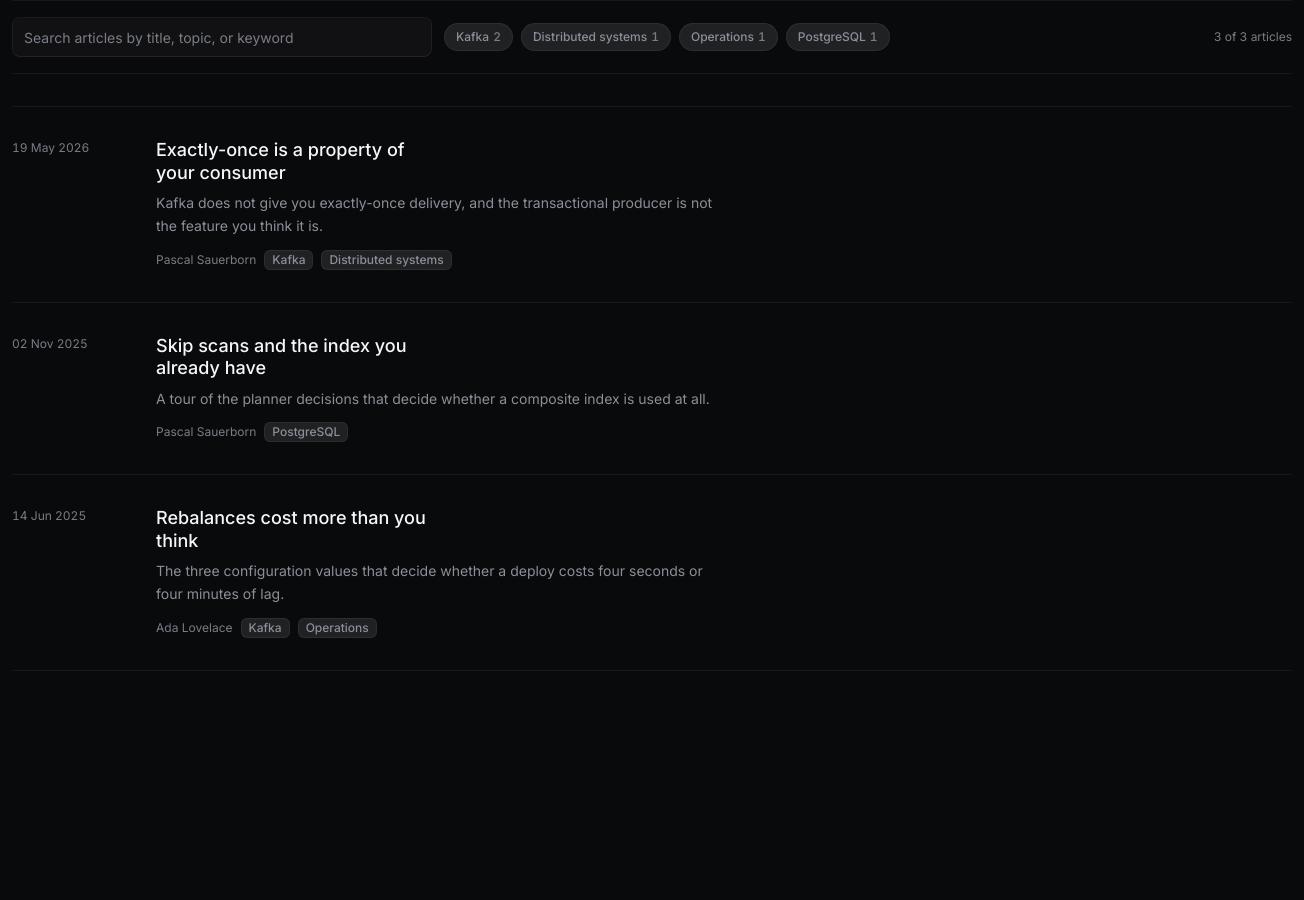
Scenario: BlogIndex › reports the visible count in a status region
Check: the message reads "3 of 3 articles", box 1214,28 -> 1292,46
Click the button "Kafka 2": (478,37) 444,23 -> 513,51
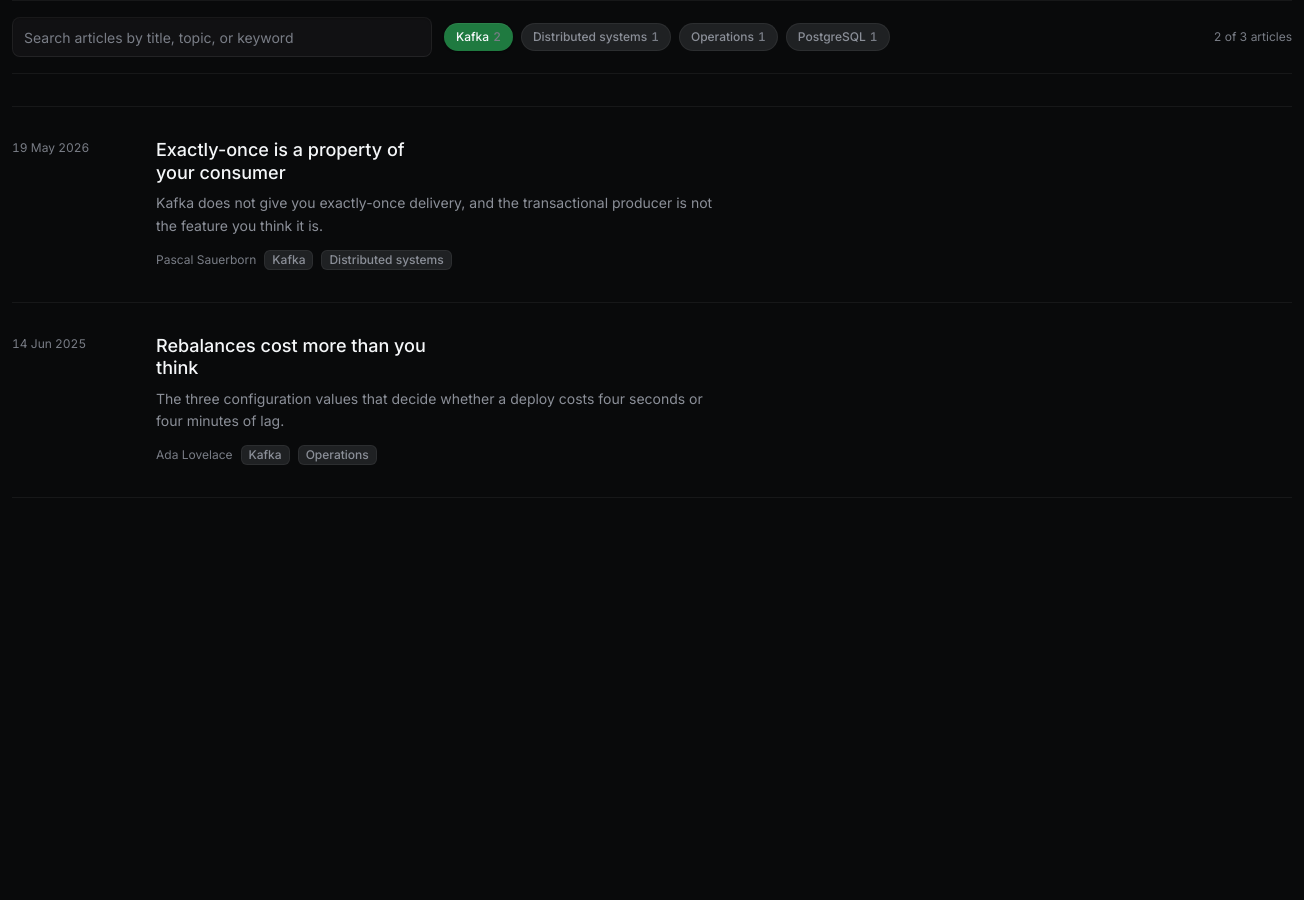
Check: the message reads "2 of 3 articles", box 1214,28 -> 1292,46
